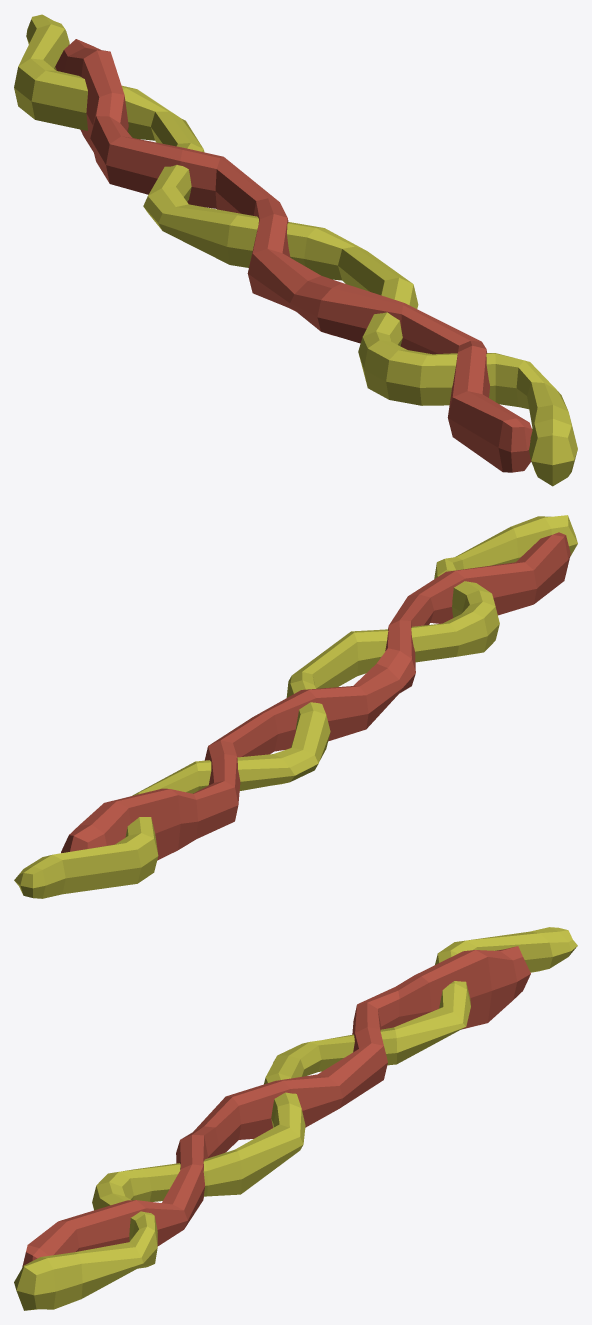
The model's file is KetchupMustard.glb.
3 views of the same model, one above another, from view 1: azimuth 30°, elevation 25°; view 2: azimuth 150°, elevation 25°; view 3: azimuth 330°, elevation 25° (orthographic). The views are drawn at different scales.
Parts seen in each view (by area): view 1: KetchupMustard; view 2: KetchupMustard; view 3: KetchupMustard.
Boxes of the visible parts, x1=… form: KetchupMustard: x1=14, y1=14, x2=577, y2=486; KetchupMustard: x1=14, y1=515, x2=577, y2=898; KetchupMustard: x1=14, y1=927, x2=577, y2=1310.
Bounding box in the file's own units: 0.1628 × 0.1058 × 1.28.
